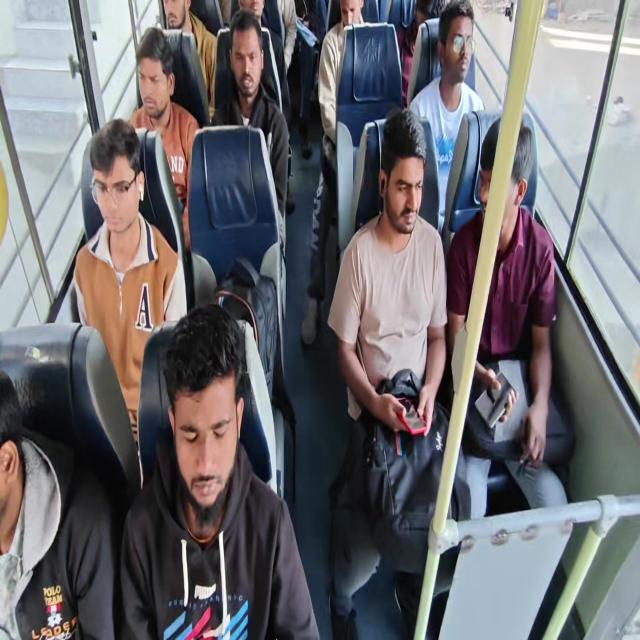person: (326, 107, 466, 638), (118, 302, 320, 638), (446, 115, 573, 519), (70, 118, 188, 466), (0, 368, 117, 638), (300, 0, 366, 346), (211, 8, 290, 257), (408, 0, 485, 235), (127, 26, 200, 252), (221, 0, 293, 138), (161, 0, 218, 115), (399, 0, 441, 105)
